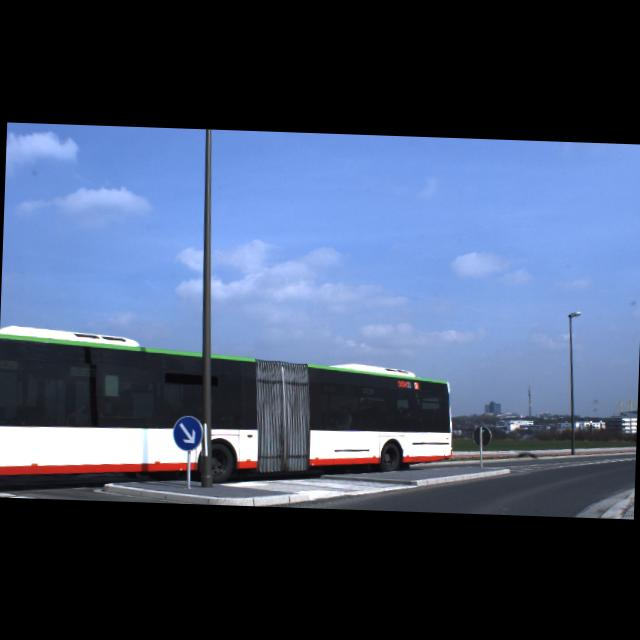mandatory: (172, 414, 202, 451)
